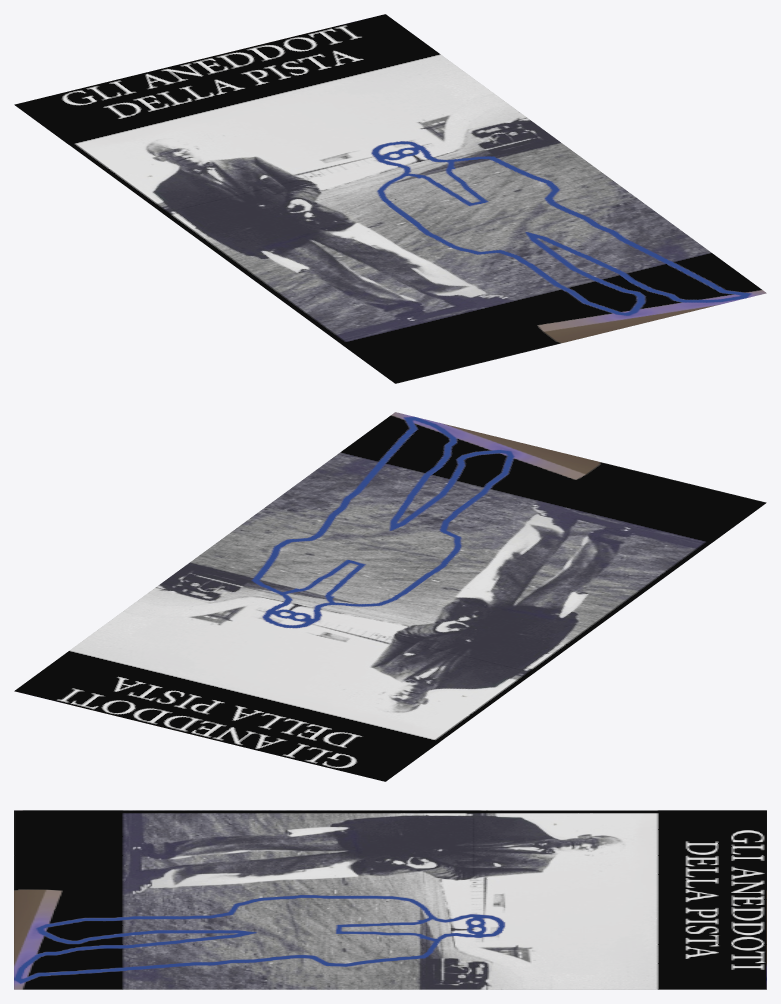
The model's file is pista.obj.
The picture shows the model from 3 angles, top to bottom: view 1: azimuth 30°, elevation 25°; view 2: azimuth 150°, elevation 25°; view 3: azimuth 270°, elevation 25°; orthographic projection.
Parts seen in each view (by area): view 1: Plane001; view 2: Plane001; view 3: Plane001.
Boxes of the visible parts, x1,y1,x2,y2 form: Plane001: (14,14,766,383); Plane001: (14,412,766,781); Plane001: (14,810,766,989).
Size of the model in its own units: 36.5 by 0 by 64.88.
